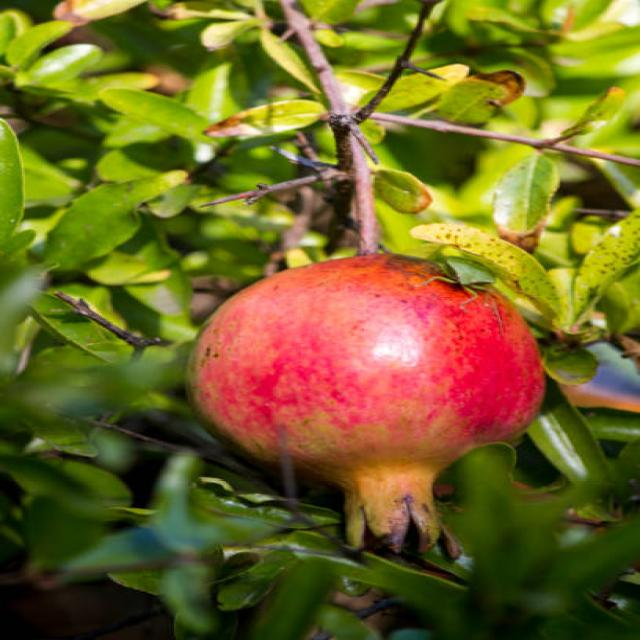Ripe: (173, 246, 554, 566)
